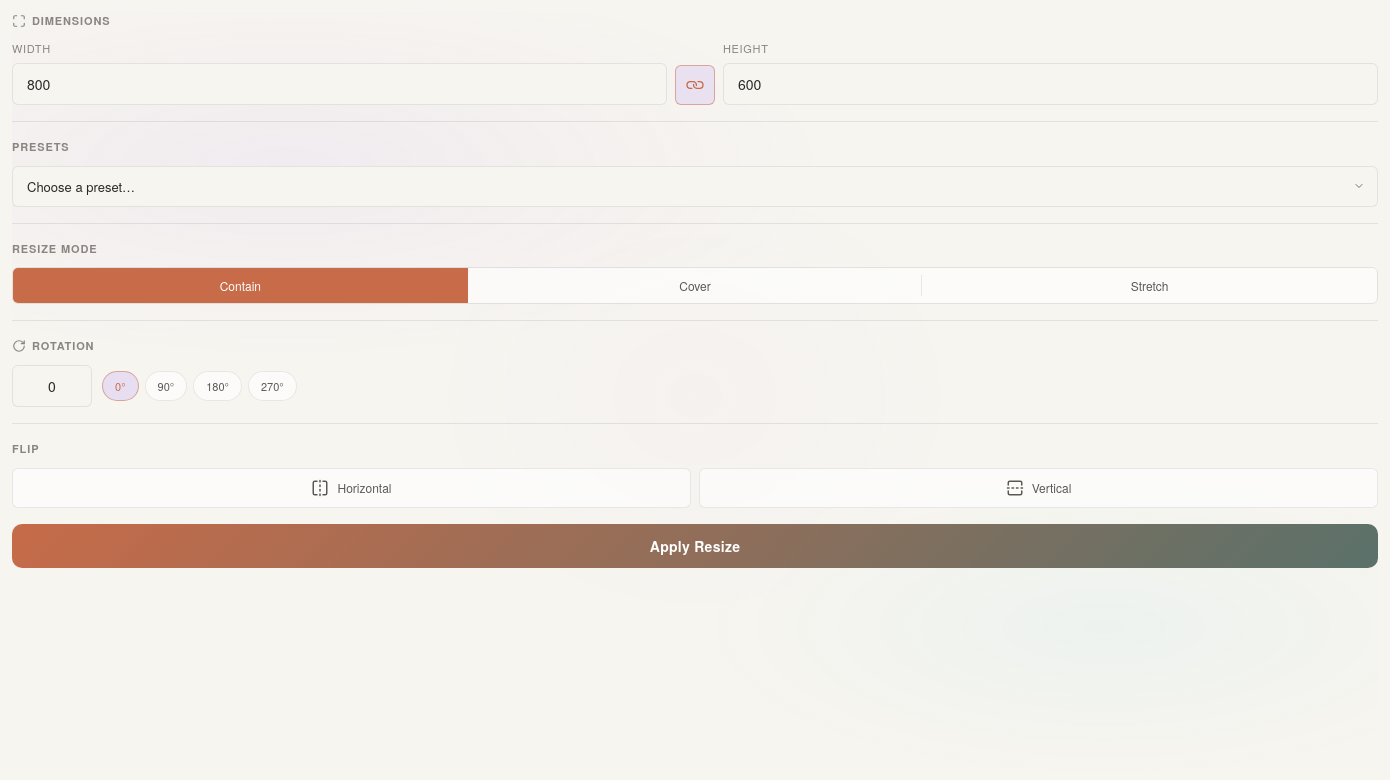
Test: ResizePanel Component › updates height proportionally when width is changed and aspect ratio is locked
The width and height of the screenshot is (1390, 780).
Change width to 400
Step 1. Replace the text in the 1st number field with class "resize-panel__input" with "400" → (340, 84), box [12,63,667,105]
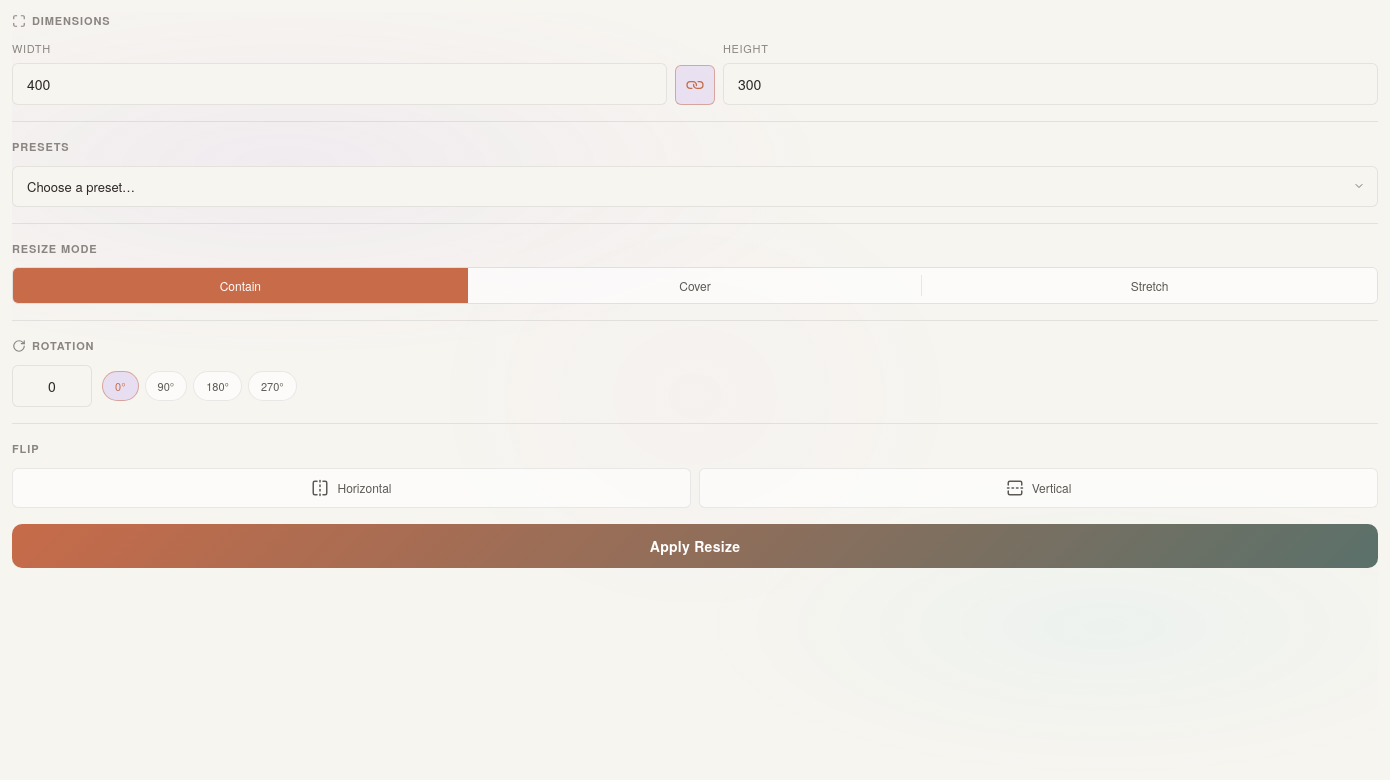
Check: the number field with class "resize-panel__input" holds "300", box [723,63,1378,105]
